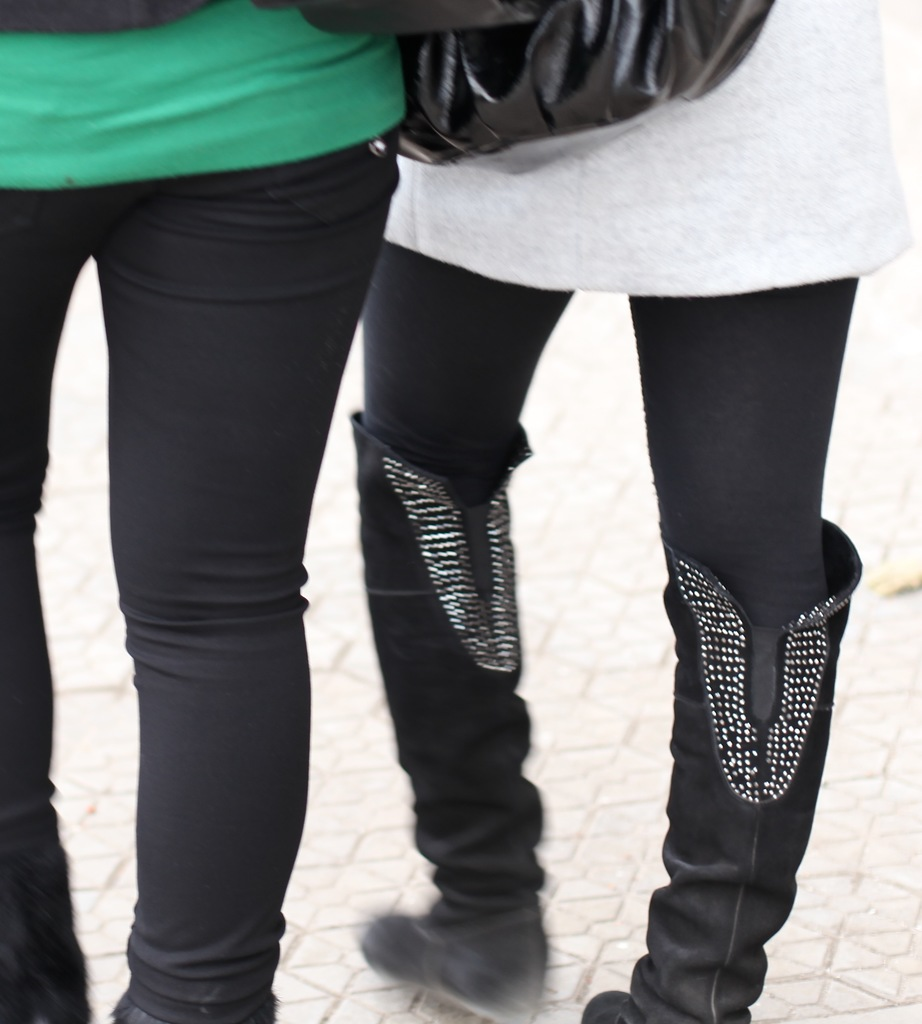Person: (344, 0, 913, 1024), (0, 0, 405, 1023)
